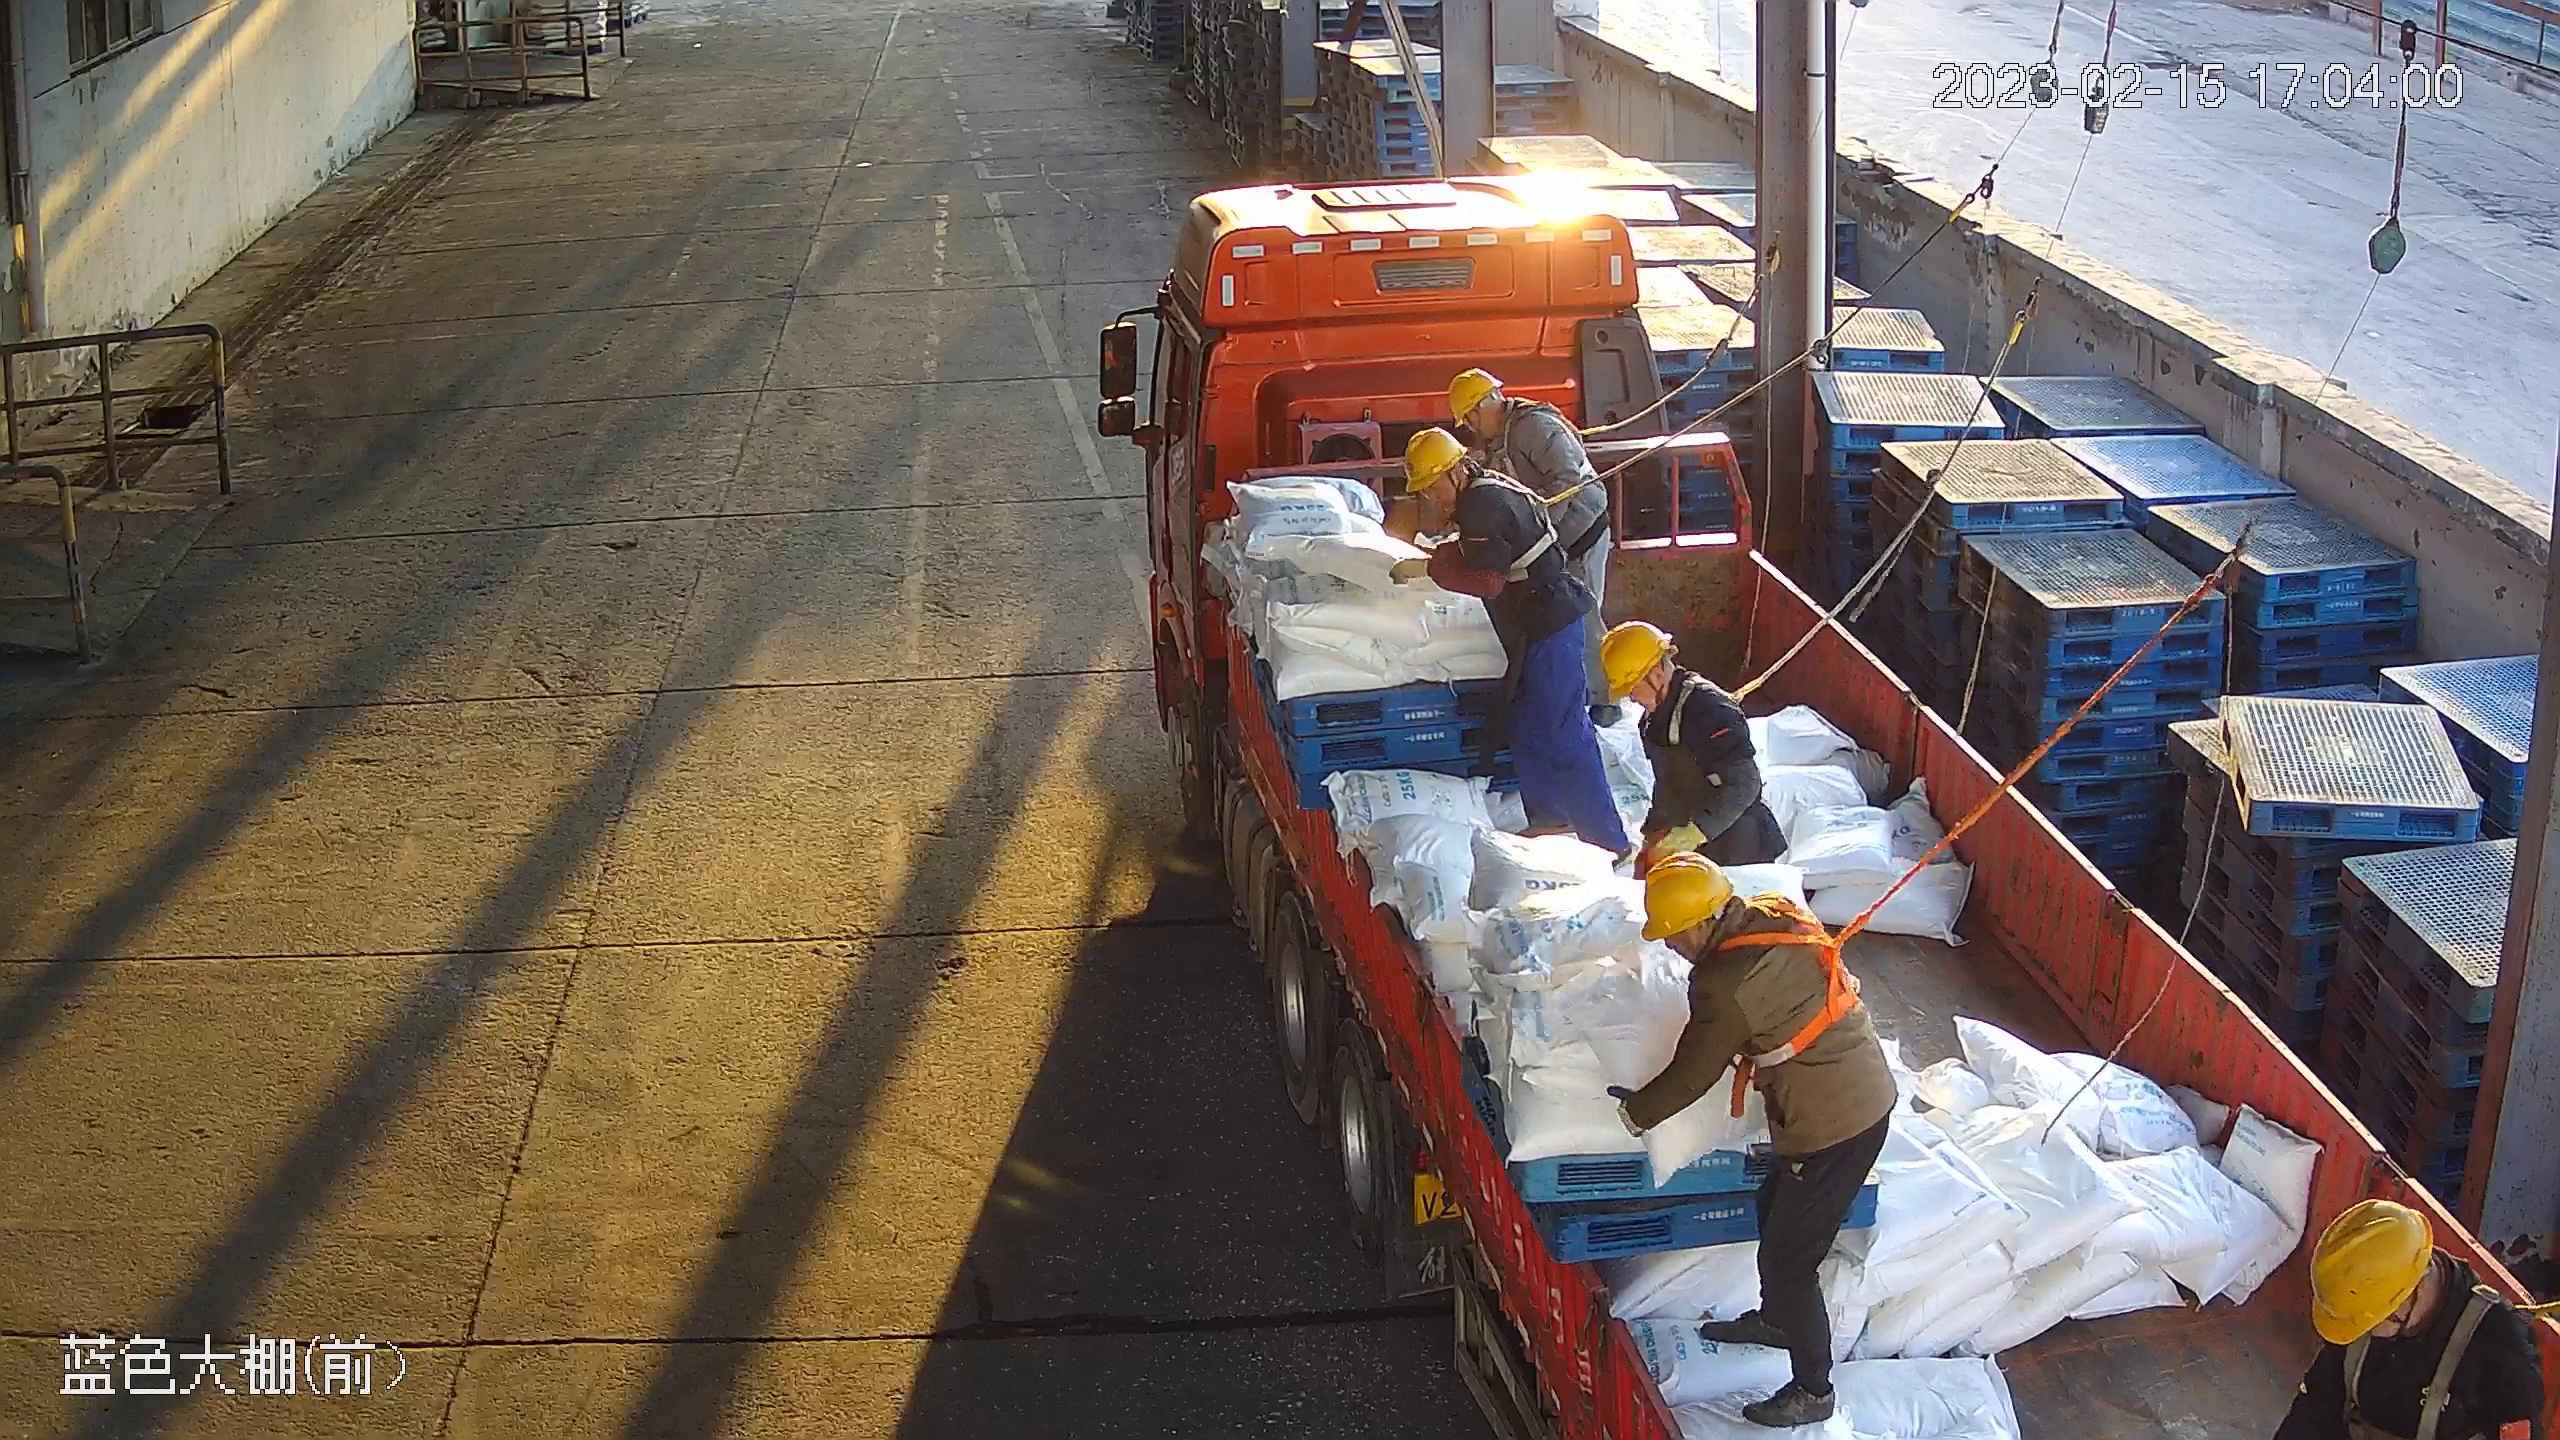belt: (2335, 1281, 2560, 1440), (1719, 897, 1876, 1071), (1465, 465, 1594, 586), (1489, 393, 1608, 482), (1644, 667, 1760, 747)
head: (2306, 1197, 2549, 1414), (1641, 849, 1869, 1002), (1598, 617, 1755, 735), (1402, 424, 1547, 526), (1447, 366, 1580, 451)
helmet: (2307, 1197, 2434, 1346), (1640, 850, 1736, 943), (1598, 619, 1674, 706), (1402, 425, 1469, 494), (1448, 366, 1506, 430)
people: (1605, 850, 1902, 1431), (1389, 426, 1640, 874), (1447, 364, 1627, 728), (1598, 620, 1793, 883)
truck: (1138, 172, 2560, 1440)
